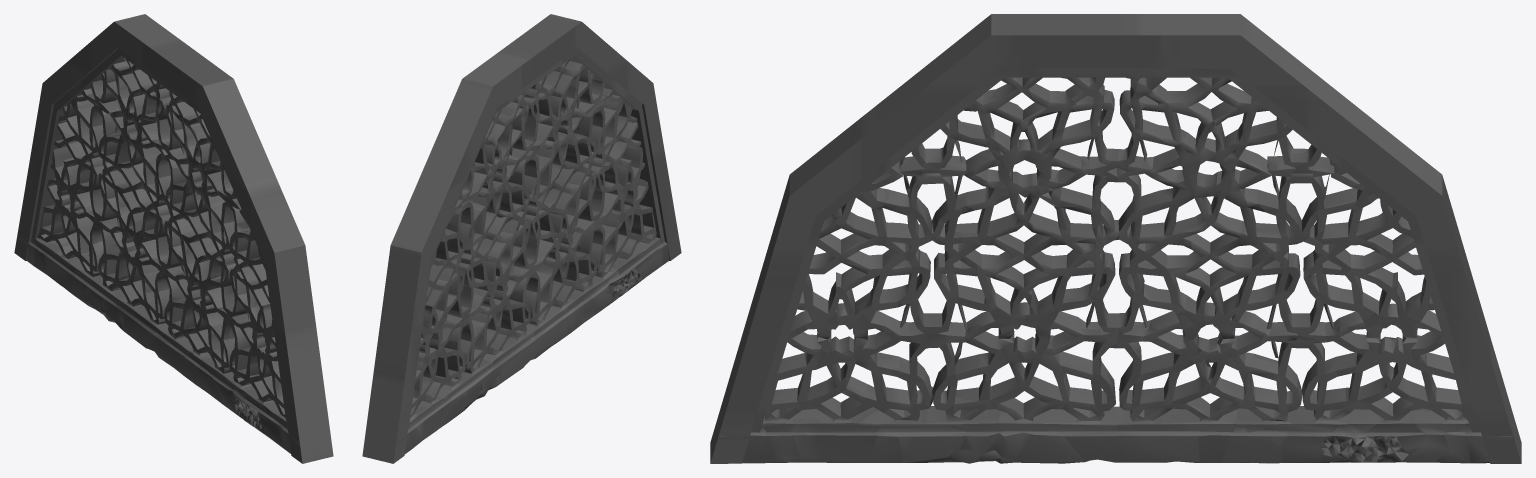
File: SM_TianChuang05_5603e6.glb
3 renders of one model, left to right at view 1: azimuth 30°, elevation 25°; view 2: azimuth 150°, elevation 25°; view 3: azimuth 270°, elevation 25°, orthographic. The views are drawn at different scales.
Visible parts, largest first — view 1: SM_TianChuang05; view 2: SM_TianChuang05; view 3: SM_TianChuang05.
Part boxes in pixels (bbox=[...]): SM_TianChuang05: bbox=[14, 14, 333, 463]; SM_TianChuang05: bbox=[362, 14, 681, 463]; SM_TianChuang05: bbox=[710, 14, 1521, 463].
Size of the model in its own units: 0.0547 by 0.5047 by 0.8626.
Materials: 1 (1 with a texture image).
